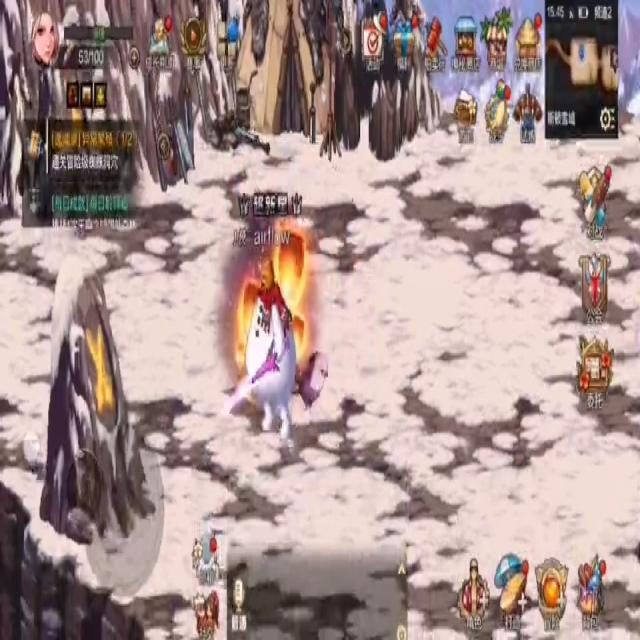player: (242, 258, 302, 447)
